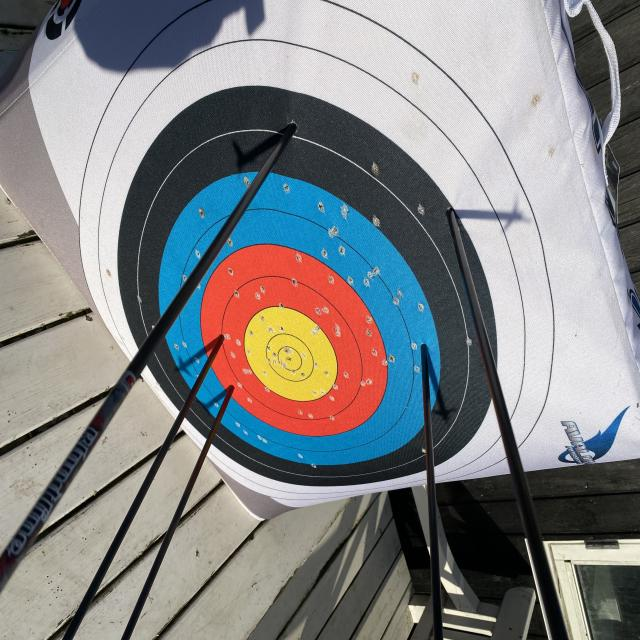Arrow_Black: (257, 109, 316, 148), (434, 194, 469, 232)
Arrow_Blue: (411, 329, 441, 367)
Arrow_Red: (208, 322, 232, 359), (220, 374, 244, 405)
